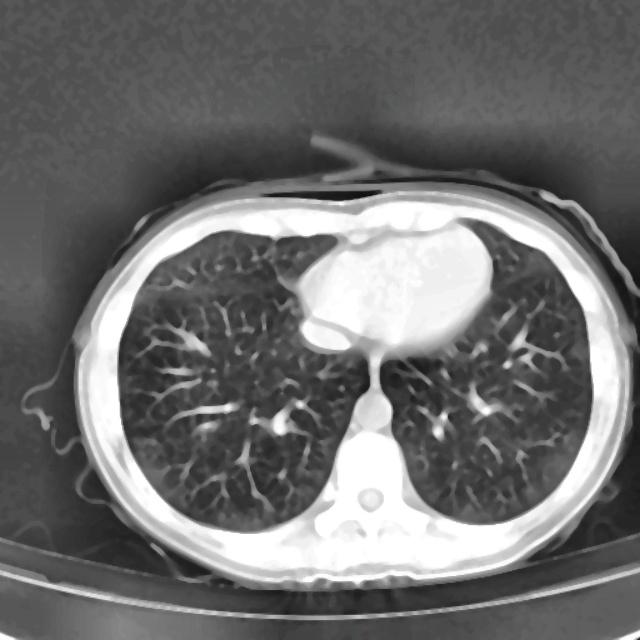covid: (57, 156, 636, 591)
